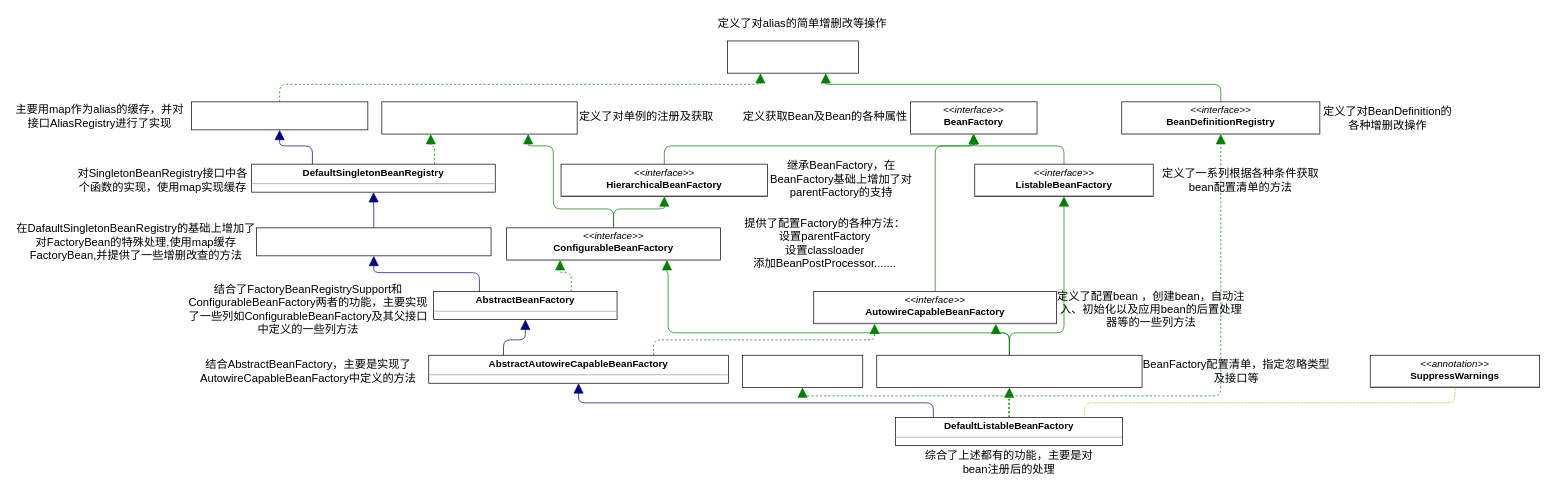
The diagram is 1552 pixels wide and 490 high, and some of its shapes have lost their labels. Here are the shapes that lost their labels. From the top down, the box of each, then its label:
(727, 40, 859, 73): <<interface>> AliasRegistry
(191, 101, 368, 130): SimpleAliasRegistry
(381, 101, 577, 134): <<interface>> SingletonBeanRegistry
(256, 227, 491, 256): FactoryBeanRegistrySupport
(742, 355, 863, 387): <<interface>> Serializable
(876, 355, 1142, 387): <<interface>> ConfigurableListableBeanFactory
